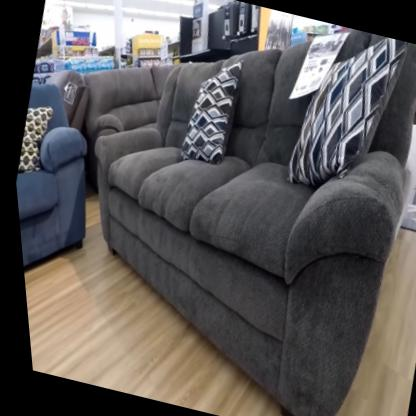Sofa: (26, 0, 416, 416)
